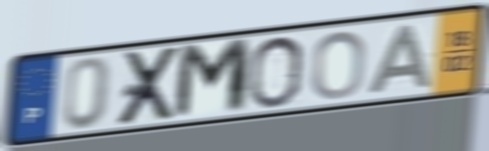0: (60, 54, 114, 132)
A: (364, 22, 434, 98)
M: (170, 35, 255, 123)
O: (245, 33, 307, 111), (309, 28, 369, 102)
X: (113, 43, 185, 129)
